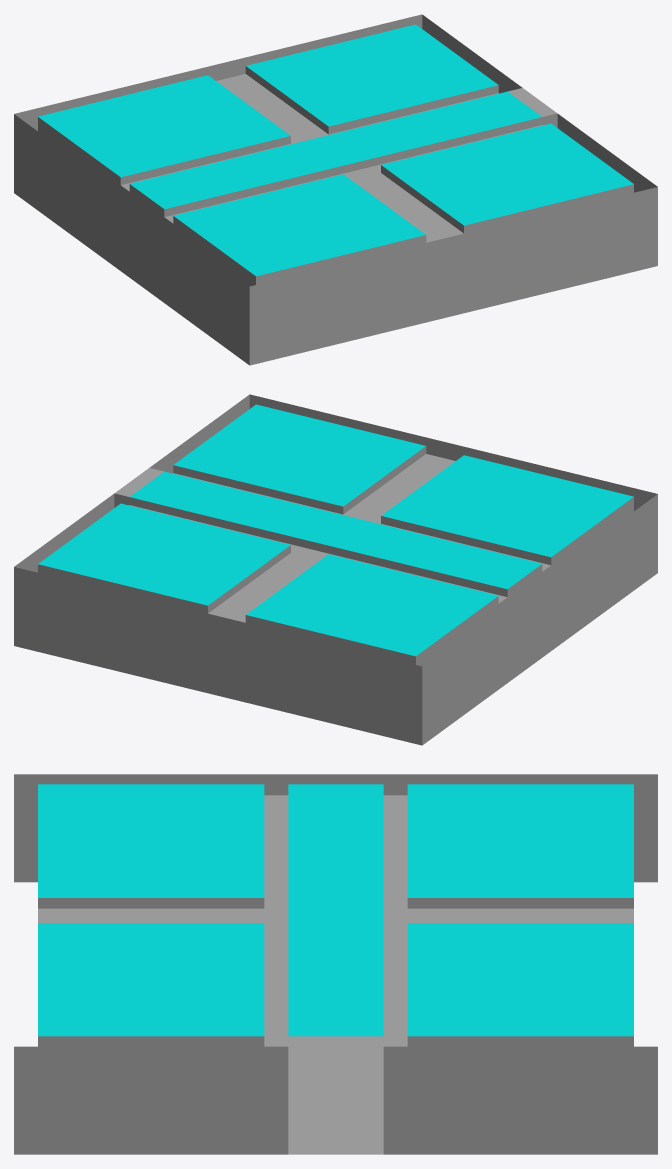
Rendered from BatteryDefenceRoom.fbx.
3 renders of one model, top to bottom at view 1: azimuth 30°, elevation 25°; view 2: azimuth 150°, elevation 25°; view 3: azimuth 270°, elevation 25°, orthographic. The views are drawn at different scales.
Visible parts, largest first — view 1: Walls_CeilingBeams, Window4, Window1, Window3, Window2, Window5; view 2: Walls_CeilingBeams, Window1, Window2, Window4, Window3, Window5; view 3: Walls_CeilingBeams, Window2, Window3, Window1, Window4, Window5, Floor.
Part boxes in pixels (left/top/right/bottom): Walls_CeilingBeams: left=14, top=14, right=657, bottom=365; Window4: left=246, top=24, right=498, bottom=126; Window1: left=381, top=123, right=633, bottom=225; Window3: left=38, top=75, right=290, bottom=177; Window2: left=173, top=174, right=425, bottom=276; Window5: left=130, top=91, right=541, bottom=209; Walls_CeilingBeams: left=14, top=394, right=657, bottom=745; Window1: left=173, top=404, right=425, bottom=506; Window2: left=381, top=455, right=633, bottom=557; Window4: left=38, top=503, right=290, bottom=605; Window3: left=246, top=554, right=498, bottom=656; Window5: left=130, top=471, right=541, bottom=589; Walls_CeilingBeams: left=14, top=774, right=657, bottom=1154; Window2: left=38, top=784, right=264, bottom=897; Window3: left=407, top=784, right=633, bottom=897; Window1: left=38, top=923, right=264, bottom=1036; Window4: left=407, top=923, right=633, bottom=1036; Window5: left=288, top=784, right=383, bottom=1036; Floor: left=288, top=1046, right=383, bottom=1154.
Size of the model in its own units: 27 by 5 by 27.
